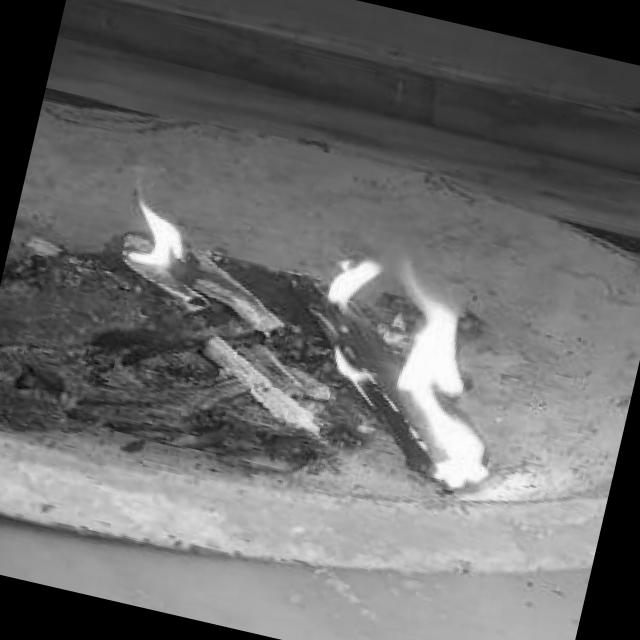fire: (70, 160, 548, 504)
